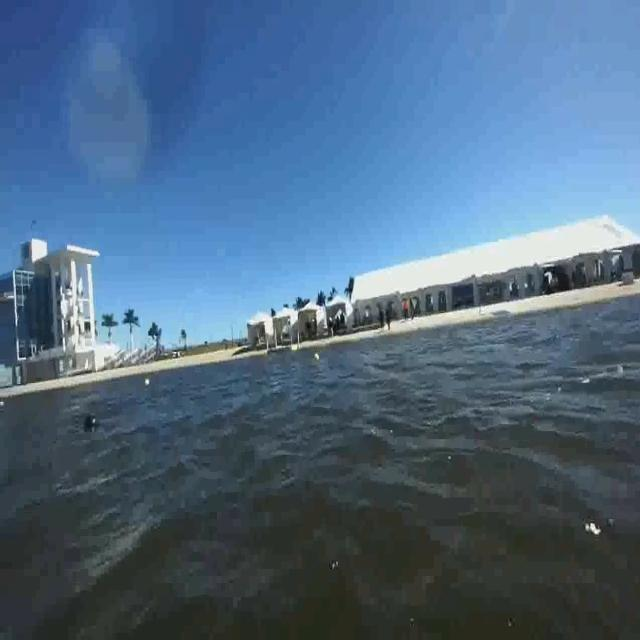black-buoy: (84, 410, 97, 434)
